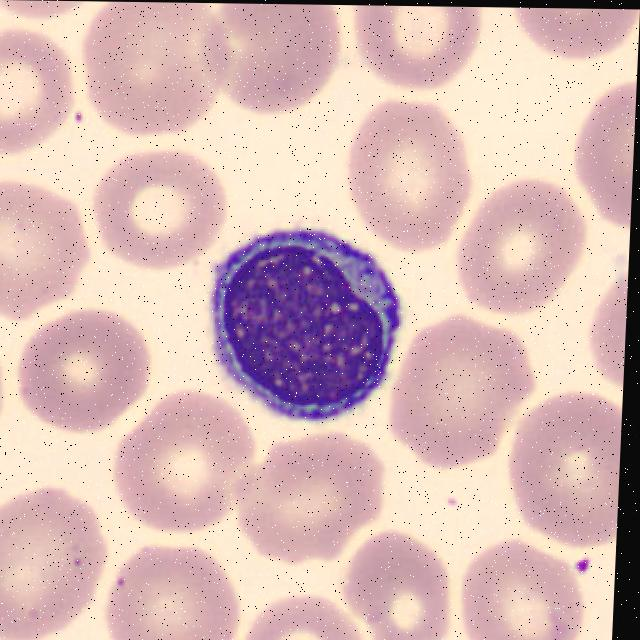lymphocyte: (206, 223, 407, 417)
rbc: (374, 328, 536, 473), (229, 438, 392, 568), (85, 2, 238, 135), (104, 402, 260, 529), (14, 301, 150, 438), (0, 487, 118, 640), (350, 104, 468, 244), (515, 388, 623, 536), (92, 147, 224, 266), (104, 539, 252, 640), (212, 3, 340, 112), (458, 188, 576, 301), (0, 183, 87, 328), (342, 533, 449, 640), (356, 6, 484, 91), (471, 554, 579, 640), (578, 75, 637, 226), (0, 34, 77, 147), (252, 587, 375, 640), (513, 8, 640, 57), (584, 272, 628, 386), (0, 0, 82, 24), (0, 339, 10, 438), (468, 555, 523, 557)
